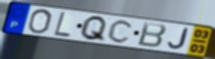B: (136, 21, 168, 49)
C: (106, 19, 135, 44)
J: (167, 27, 191, 50)
L: (52, 10, 72, 38)
O: (26, 9, 54, 35)
Q: (78, 15, 109, 43)
